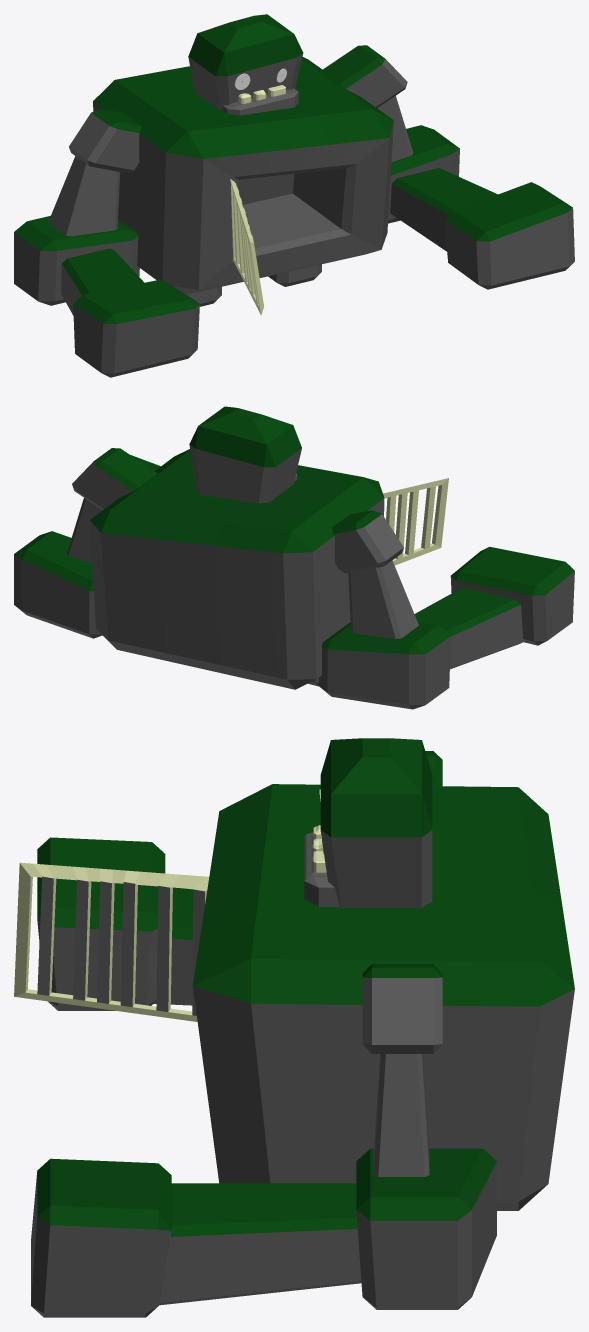
Rendered from UnlockOpenGoofy.fbx.
The picture shows the model from 3 angles, top to bottom: view 1: azimuth 30°, elevation 25°; view 2: azimuth 150°, elevation 25°; view 3: azimuth 270°, elevation 25°; orthographic projection. The views are drawn at different scales.
Visible parts, largest first — view 1: Sphere.079, Sphere.080, Sphere.081; view 2: Sphere.079, Sphere.080, Sphere.081; view 3: Sphere.080, Sphere.079, Sphere.081.
Part boxes in pixels (left/top/right/bottom): Sphere.079: left=14, top=14, right=574, bottom=377; Sphere.080: left=93, top=57, right=393, bottom=294; Sphere.081: left=230, top=179, right=264, bottom=315; Sphere.079: left=14, top=406, right=574, bottom=709; Sphere.080: left=89, top=449, right=384, bottom=689; Sphere.081: left=383, top=478, right=448, bottom=565; Sphere.080: left=193, top=784, right=574, bottom=1210; Sphere.079: left=31, top=738, right=496, bottom=1317; Sphere.081: left=14, top=862, right=209, bottom=1021.
Size of the model in its own units: 2889 by 1536 by 1773.
